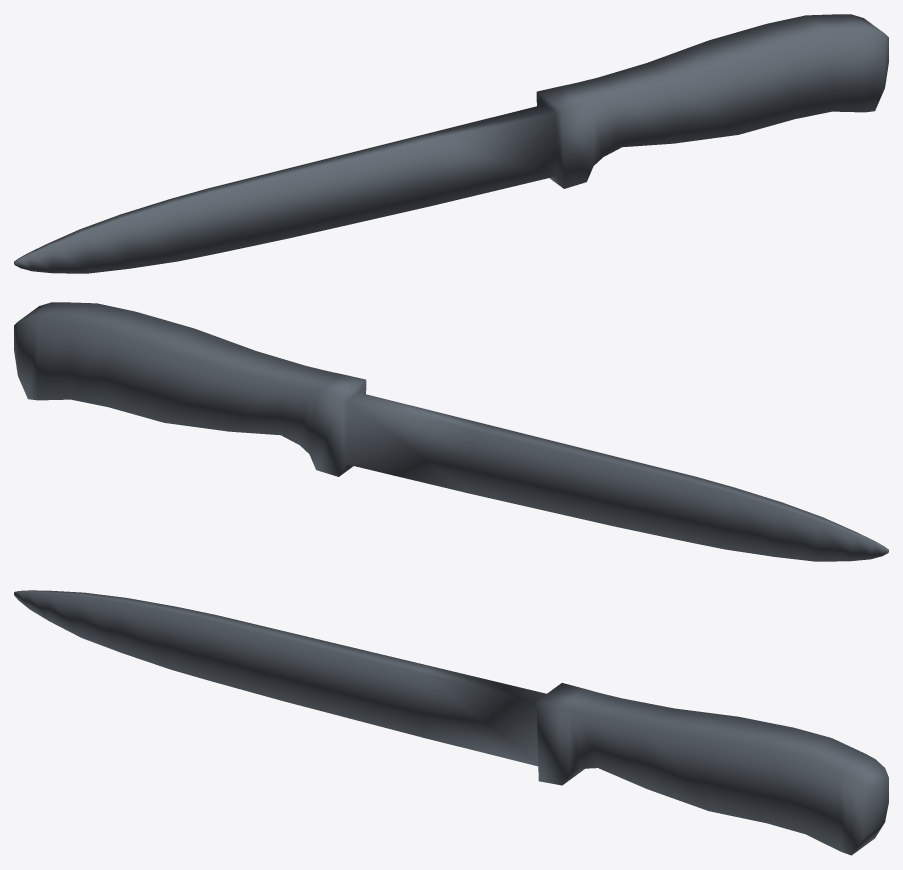
The model's file is mdl_knive03.fbx.
3 views of the same model, one above another, from view 1: azimuth 30°, elevation 25°; view 2: azimuth 150°, elevation 25°; view 3: azimuth 330°, elevation 25° (orthographic).
Visible parts, largest first — view 1: sharp_knife_m; view 2: sharp_knife_m; view 3: sharp_knife_m.
Part boxes in pixels (box(x1,y1,x2,y2)): sharp_knife_m: box(14, 14, 888, 273); sharp_knife_m: box(14, 302, 888, 561); sharp_knife_m: box(14, 590, 888, 855).
Bounding box in the file's own units: 381 × 37.75 × 23.
